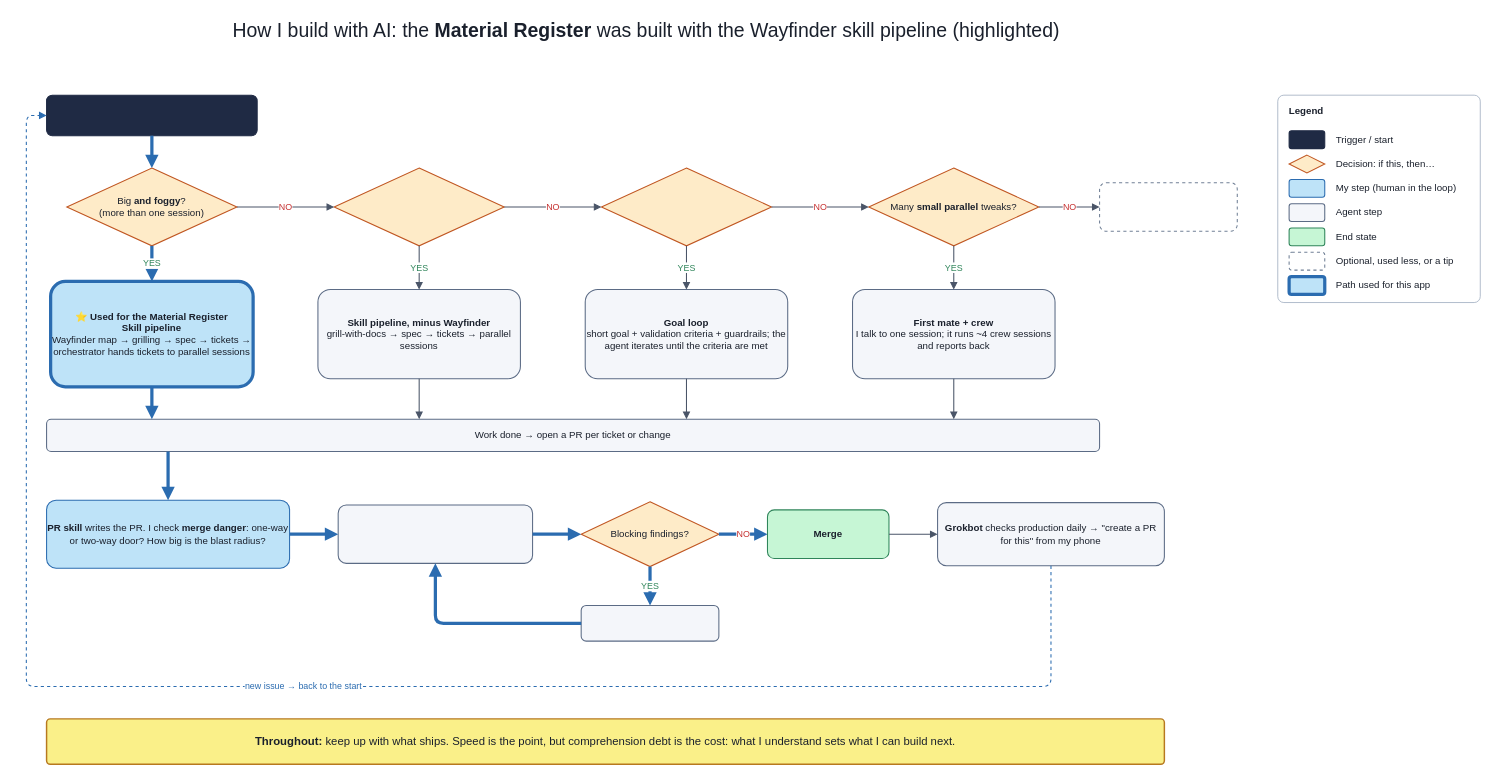
Some shapes in this 1494 by 778 pixel diagram are drawn without their labels. Here are the shapes that lost their labels. From the top down, the box of each, then its label:
(46, 94, 257, 136): New idea or task
(333, 167, 504, 246): Big but clear ?
(601, 167, 772, 246): A measurable outcome to hit?
(1099, 182, 1237, 231): Just ask in one session
(337, 504, 533, 564): Independent code review a subagent or another model (Codex)
(580, 605, 719, 641): Fix, then re-review
